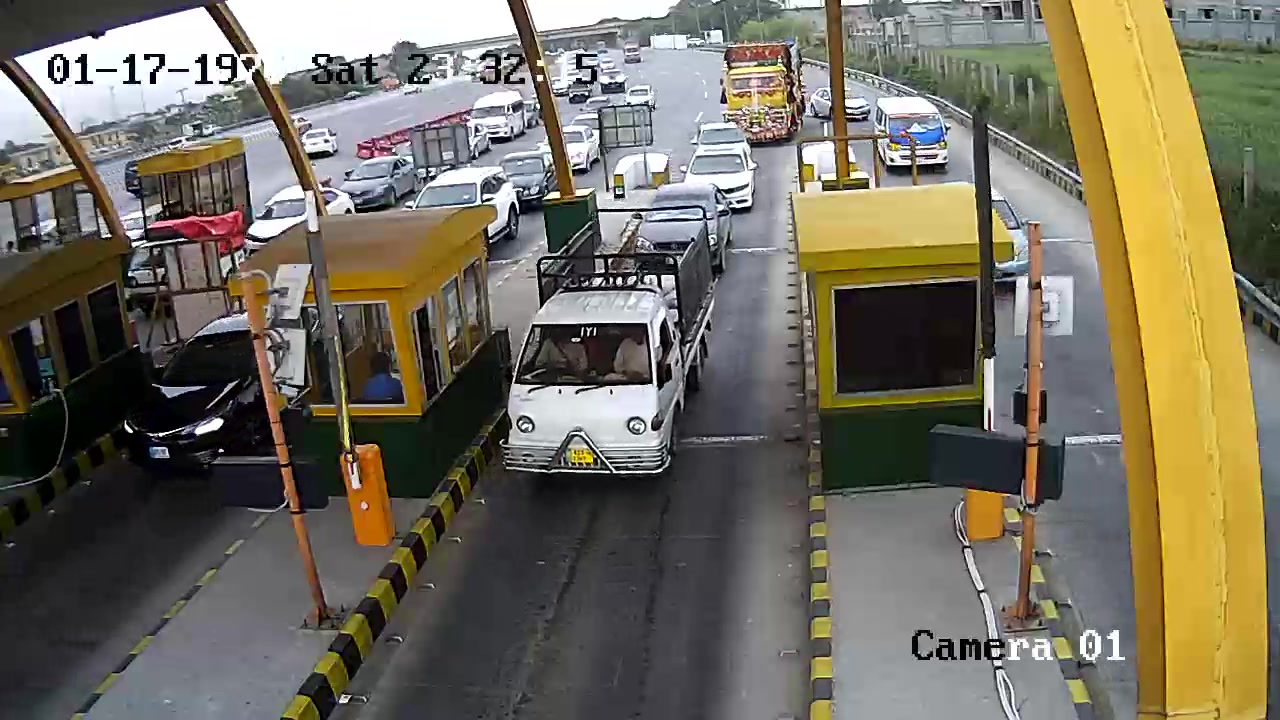F2: (500, 210, 715, 490)
